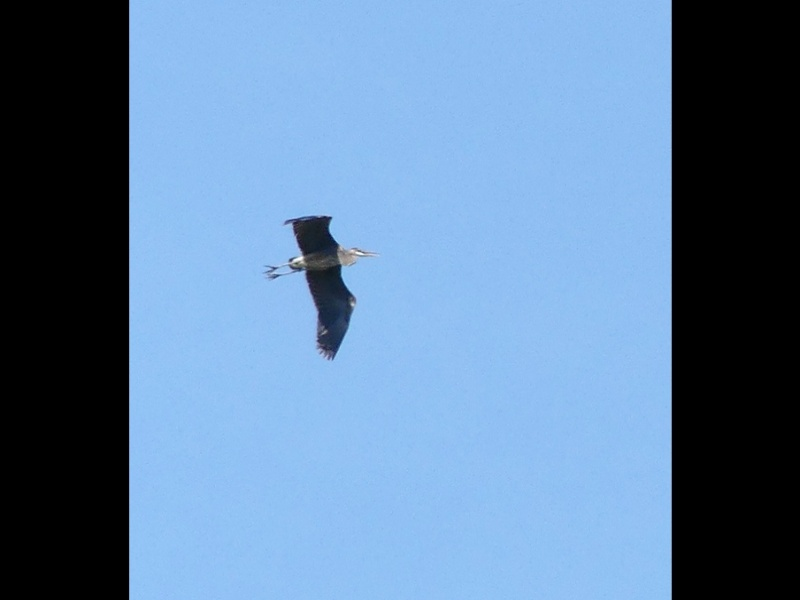heron: (262, 212, 382, 365)
